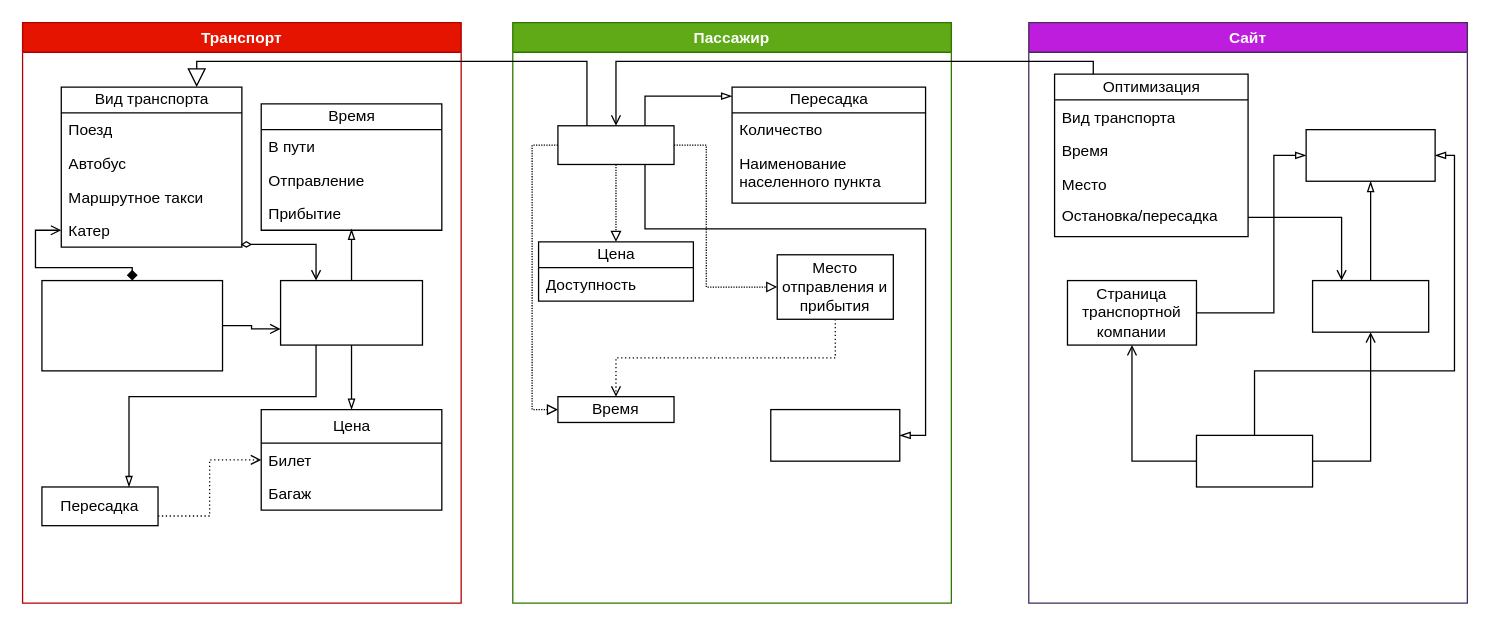
Image size: 1490x626. Some labels were removed from this diagram. Each missing label, with the centre of its shape:
Возможность перевоза багажа: (834,434)
Доступность транспорта в зависимости от погодных\сезонных условий: (132,325)
Карта маршрута: (1254,460)
Критерии формирования маршрута: (350,312)
Страница веб-приложения: (1370,154)
Страница рекомендаций: (1370,305)
Требования к маршруту: (615,144)
